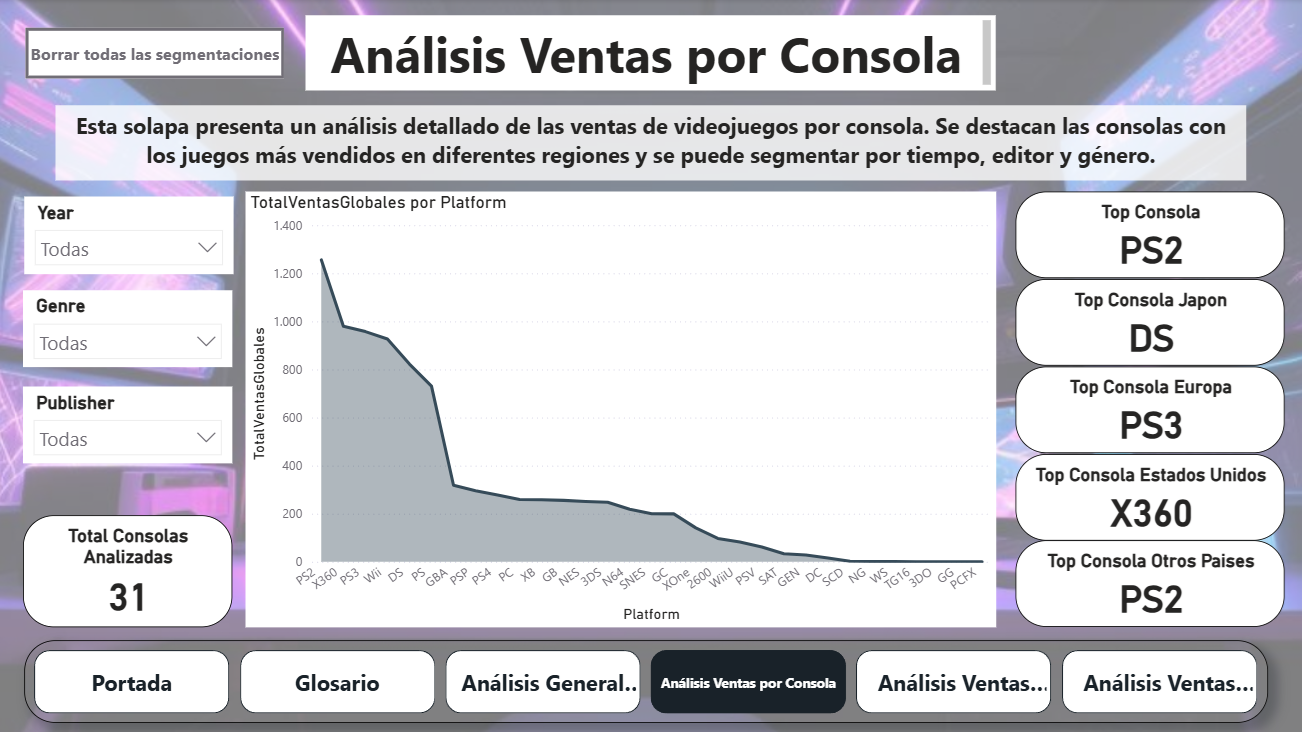

The page's visual inventory and layout, read from the dashboard file:
{"tool":"powerbi","page":{"name":"Análisis Ventas por Consola","canvas":[1280,720],"ordinal":3},"visuals":[{"type":"textbox","box":[301,15.8,675.4,73.4],"z":0},{"type":"slicer","fields":{"Values":["TB_Videogames.Year"]},"box":[25.9,193,204.5,76.3],"z":1000},{"type":"slicer","fields":{"Values":["Dim_Publisher.Publisher"]},"box":[24.5,378.7,204.5,74.9],"z":2000},{"type":"slicer","fields":{"Values":["Dim_Genre.Genre"]},"box":[24.5,285.1,204.5,74.9],"z":3000},{"type":"card","title":"Top Consola Japon","fields":{"Values":["Z_Medidas.ConsolaMasVendida"]},"box":[995,273.6,263.5,85],"z":4000},{"type":"card","title":"Total Consolas Analizadas","fields":{"Values":["Z_Medidas.Consolas_Diferentes"]},"box":[24.5,505.4,204.5,109.4],"z":5000},{"type":"actionButton","box":[26.3,27.8,253.2,49.8],"z":6000},{"type":"areaChart","fields":{"Category":["Dim_Platform.Platform"],"Y":["Z_Medidas.TotalVentasGlobales"]},"box":[241.9,188.6,734.4,426.2],"z":7000},{"type":"card","title":"Top Consola Europa","fields":{"Values":["Z_Medidas.ConsolaConJuegosMasVendidosEU"]},"box":[995,360,263.5,85],"z":8000},{"type":"card","title":"Top Consola Estados Unidos","fields":{"Values":["Z_Medidas.ConsolaConJuegosMasVendidosNA"]},"box":[995,445,263.5,85],"z":9000},{"type":"card","title":"Top Consola Otros Paises","fields":{"Values":["Z_Medidas.ConsolaConJuegosMasVendidosOtras"]},"box":[995,529.9,263.5,85],"z":10000},{"type":"card","title":"Top Consola","fields":{"Values":["Z_Medidas.ConsolaConJuegosMasVendidos"]},"box":[995,188.6,263.5,85],"z":11000},{"type":"textbox","box":[56.2,103.7,1165,73.4],"z":12000},{"type":"pageNavigator","box":[25.9,627.8,1216.8,80.6],"z":13000}]}

Visuals, with their boxes in screenshot pixels (x1, y1, x2, y2), scaled from the page's 1280x720 canvas onto the 1302x732 screenshot:
textbox: 306, 16, 993, 91
slicer - TB_Videogames.Year: 26, 196, 234, 274
slicer - Dim_Publisher.Publisher: 25, 385, 233, 461
slicer - Dim_Genre.Genre: 25, 290, 233, 366
"Top Consola Japon" card: 1012, 278, 1280, 365
"Total Consolas Analizadas" card: 25, 514, 233, 625
actionButton: 27, 28, 284, 79
areaChart - Dim_Platform.Platform x Z_Medidas.TotalVentasGlobales: 246, 192, 993, 625
"Top Consola Europa" card: 1012, 366, 1280, 452
"Top Consola Estados Unidos" card: 1012, 452, 1280, 539
"Top Consola Otros Paises" card: 1012, 539, 1280, 625
"Top Consola" card: 1012, 192, 1280, 278
textbox: 57, 105, 1242, 180
pageNavigator: 26, 638, 1264, 720
